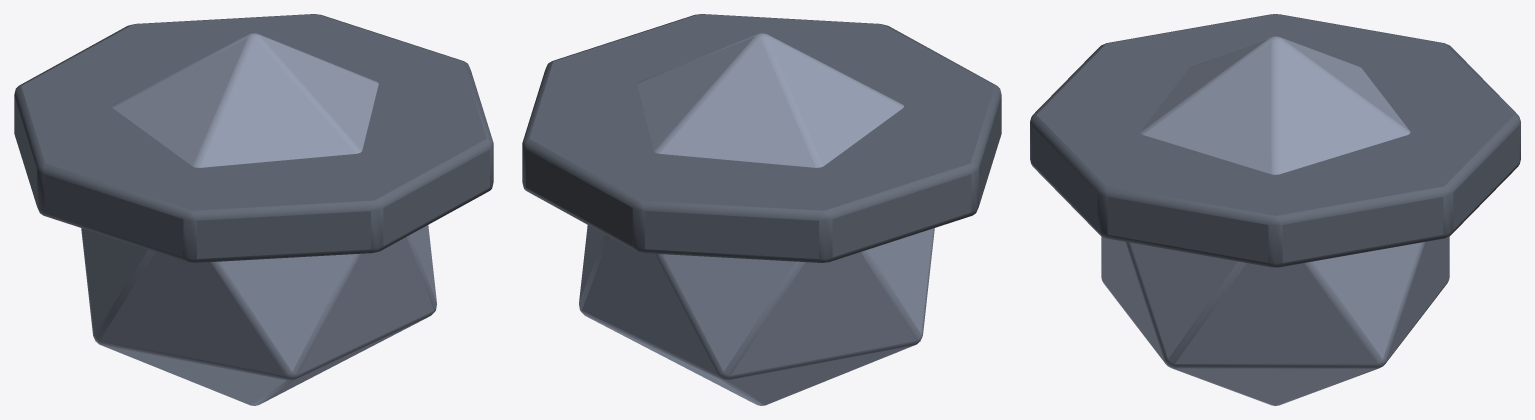
Rendered from brute_enemy.glb.
3 views of the same model, side by side, from view 1: azimuth 30°, elevation 25°; view 2: azimuth 150°, elevation 25°; view 3: azimuth 270°, elevation 25° (orthographic).
Visible parts, largest first — view 1: Armor, Body; view 2: Armor, Body; view 3: Armor, Body.
Boxes of the visible parts, left/top/right/bottom form: Armor: left=14, top=14, right=493, bottom=262; Body: left=81, top=33, right=436, bottom=405; Armor: left=522, top=14, right=1001, bottom=262; Body: left=579, top=33, right=934, bottom=405; Armor: left=1030, top=14, right=1520, bottom=267; Body: left=1101, top=36, right=1449, bottom=405.
Bounding box in the file's own units: 2.25 × 1.86 × 2.25.
